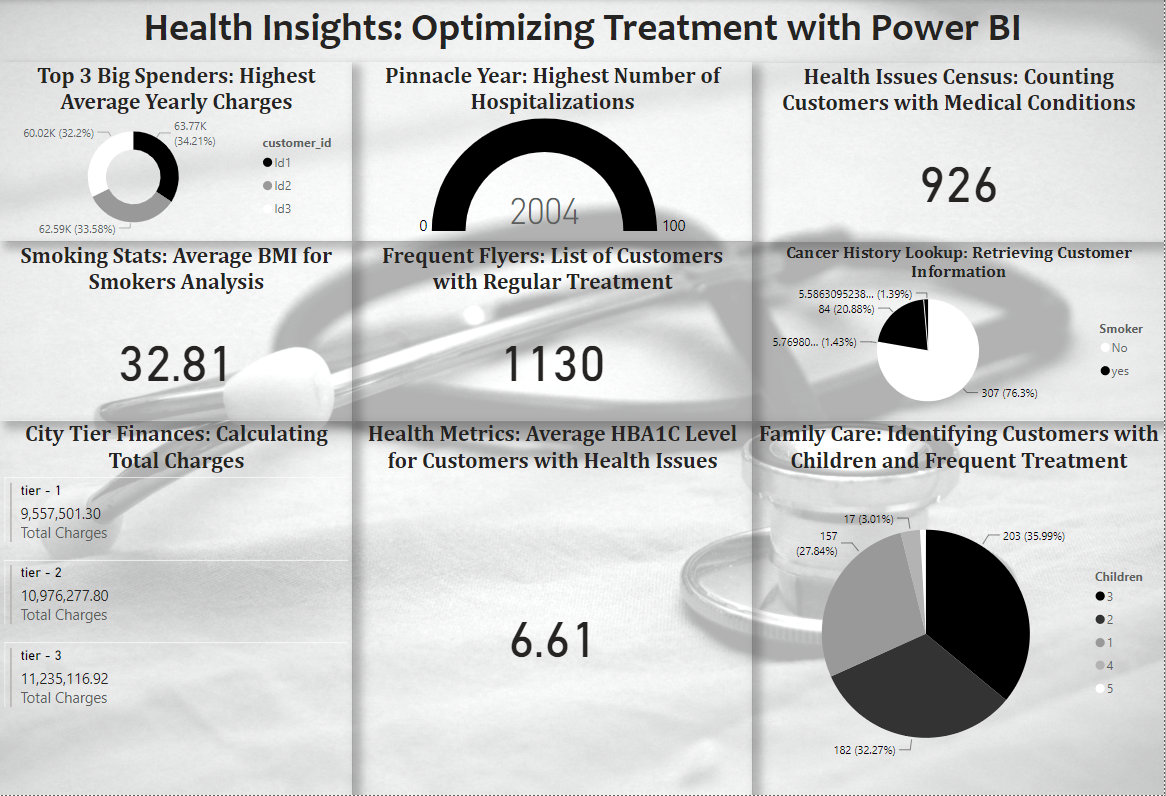

What the dashboard file says about the page in this screenshot:
{"tool":"powerbi","page":{"name":"Dashboard 3","canvas":[1280,875],"ordinal":2},"visuals":[{"type":"textbox","box":[0,0,1280.2,68.7],"z":0},{"type":"donutChart","title":"Top 3 Big Spenders: Highest Average Yearly Charges","fields":{"Category":["13.customer_id"],"Y":["Sum(13.avg_yearly_charges)"]},"box":[0,68.7,387.4,196.4],"z":1},{"type":"gauge","title":"Pinnacle Year: Highest Number of Hospitalizations","fields":{"Y":["Sum(15.year)"],"MaxValue":["Sum(15.hospitalization_count)"]},"box":[387.4,68.7,439.6,196.4],"z":2},{"type":"card","title":"Health Issues Census: Counting Customers with Medical Conditions","fields":{"Values":["Sum(16.health_issues_count)"]},"box":[826.9,70.1,453.3,196.4],"z":3},{"type":"card","title":"Smoking Stats: Average BMI for Smokers Analysis","fields":{"Values":["Sum(17.avg_bmi_for_smokers)"]},"box":[0,266.5,387.4,196.4],"z":4},{"type":"card","title":"Frequent Flyers: List of Customers with Regular Treatment","fields":{"Values":["Sum(18.Frequent_Customers)"]},"box":[387.4,266.5,439.6,196.4],"z":5},{"type":"pieChart","title":"Cancer History Lookup: Retrieving Customer Information","fields":{"Y":["CountNonNull(19.customer_id)","Avg(19.HBA1C)"],"Category":["19.smoker"]},"box":[826.9,266.5,453.3,196.4],"z":6},{"type":"multiRowCard","title":"City Tier Finances: Calculating Total Charges","fields":{"Values":["20.city_tier","20.total_charges"]},"box":[0,462.9,387.4,412.1],"z":7},{"type":"pieChart","title":"Family Care: Identifying Customers with Children and Frequent Treatment","fields":{"Y":["CountNonNull(21.customer_id)"],"Category":["21.children"]},"box":[826.9,462.9,453.3,412.1],"z":8},{"type":"card","title":"Health Metrics: Average HBA1C Level for Customers with Health Issues","fields":{"Values":["Sum(22.avg_hba1c_for_health_issues)"]},"box":[387.4,462.9,439.6,412.1],"z":9}]}

Visuals, with their boxes in screenshot pixels (x1, y1, x2, y2), scaled from the page's 1280x875 canvas onto the 1166x796 screenshot:
textbox: bbox=(0, 0, 1165, 62)
"Top 3 Big Spenders: Highest Average Yearly Charges" donutChart: bbox=(0, 62, 353, 241)
"Pinnacle Year: Highest Number of Hospitalizations" gauge: bbox=(353, 62, 753, 241)
"Health Issues Census: Counting Customers with Medical Conditions" card: bbox=(753, 64, 1165, 242)
"Smoking Stats: Average BMI for Smokers Analysis" card: bbox=(0, 242, 353, 421)
"Frequent Flyers: List of Customers with Regular Treatment" card: bbox=(353, 242, 753, 421)
"Cancer History Lookup: Retrieving Customer Information" pieChart: bbox=(753, 242, 1165, 421)
"City Tier Finances: Calculating Total Charges" multiRowCard: bbox=(0, 421, 353, 795)
"Family Care: Identifying Customers with Children and Frequent Treatment" pieChart: bbox=(753, 421, 1165, 795)
"Health Metrics: Average HBA1C Level for Customers with Health Issues" card: bbox=(353, 421, 753, 795)
